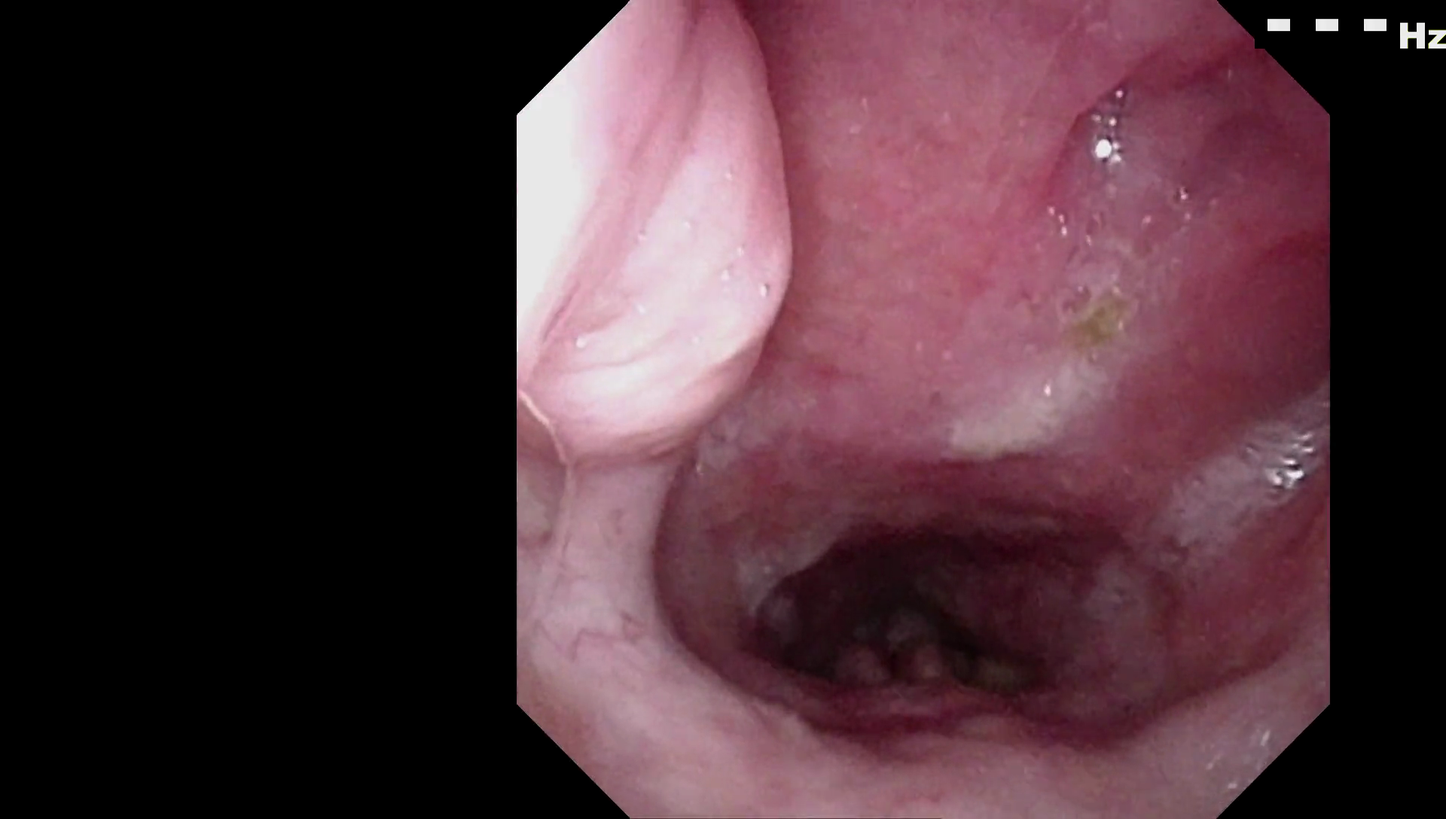close_wall: (526, 108, 815, 503)
next: (755, 511, 1071, 720)
